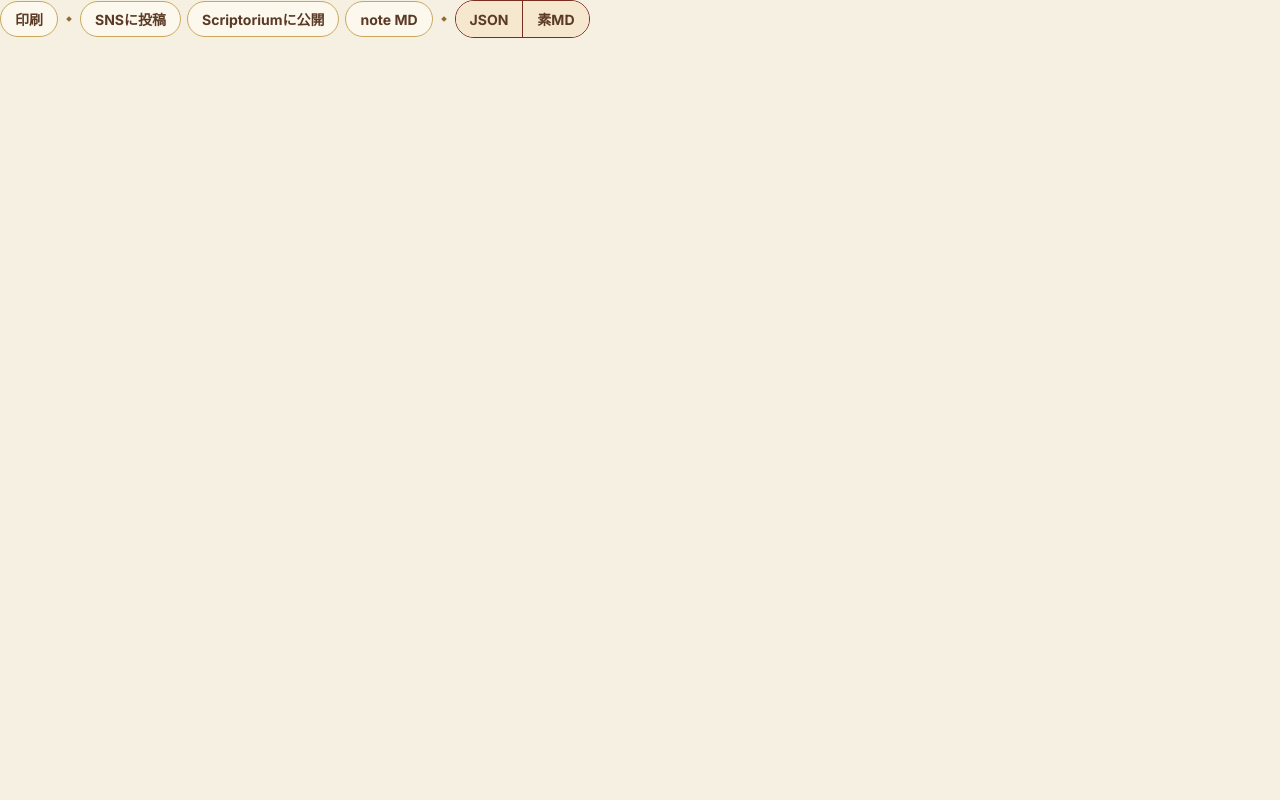
Test: ExportActionBar — PC幅（従来のピル群） › note MDクリップボード非対応時は手動コピーフォールバックダイアログが開く（FB-E）
Step 1. Click the button "note MD" → (389, 19), box [345,1,432,37]
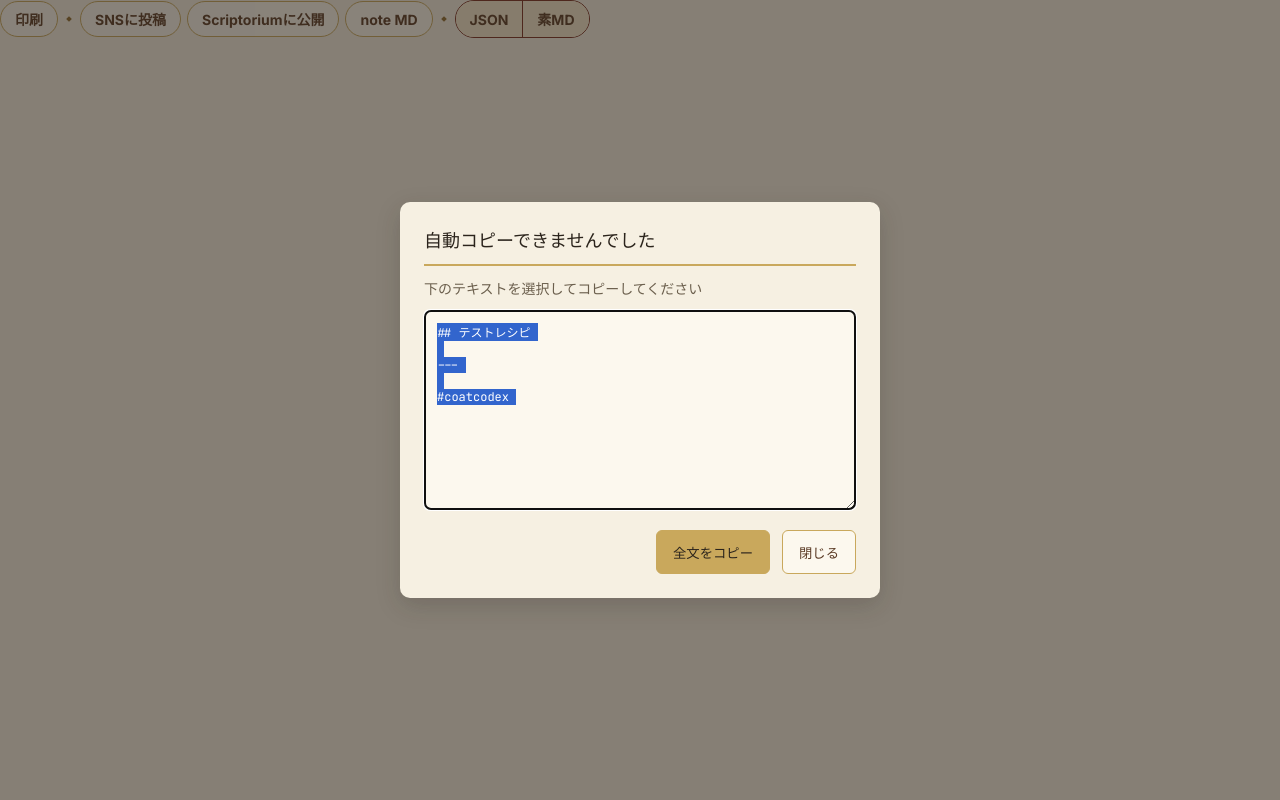
Check: the element with test id "markdown-copy-fallback-backdrop" is shown
